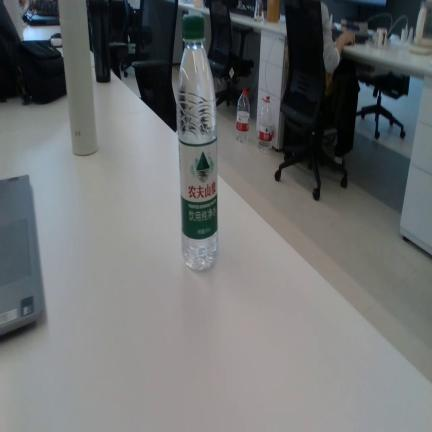bottle: (176, 14, 217, 270), (258, 95, 273, 152), (236, 88, 250, 143)
